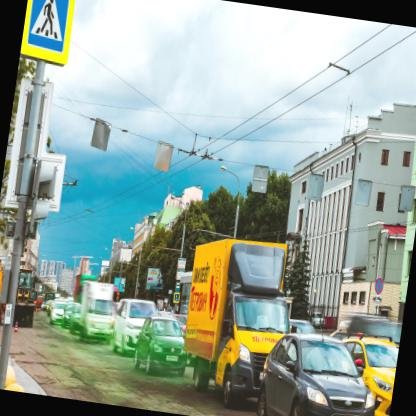car: (45, 82, 65, 122), (56, 82, 70, 115), (30, 81, 40, 103), (28, 76, 36, 98), (20, 80, 24, 88)
truck: (36, 51, 58, 112), (24, 71, 31, 92)
